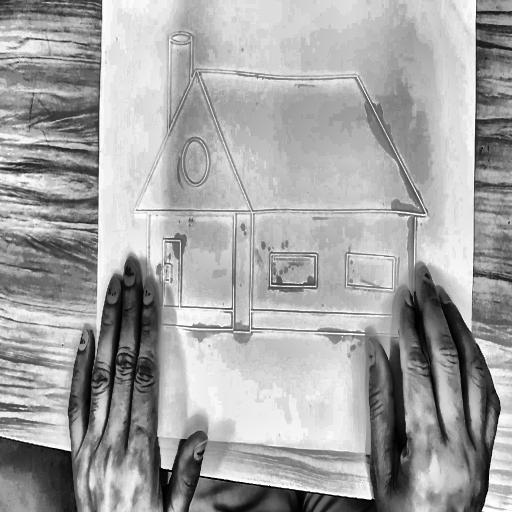bottom_left: (91, 428, 100, 444)
bottom_right: (464, 454, 473, 471)
house: (127, 25, 434, 354)
